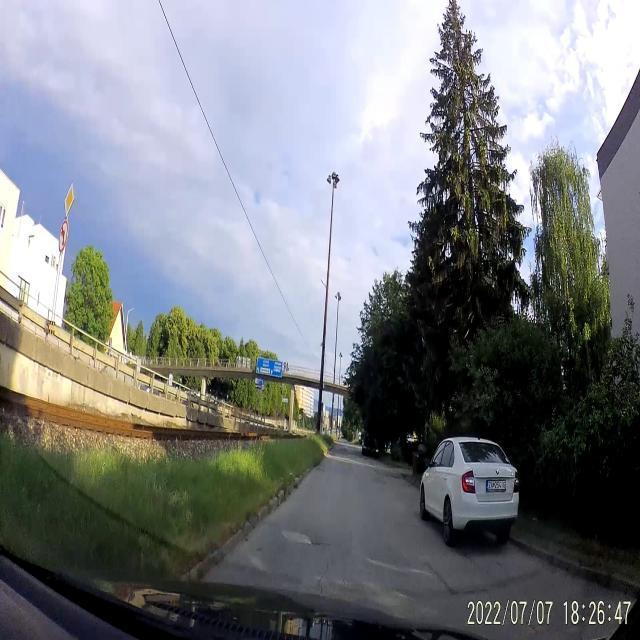Pothole: (279, 524, 323, 550)
